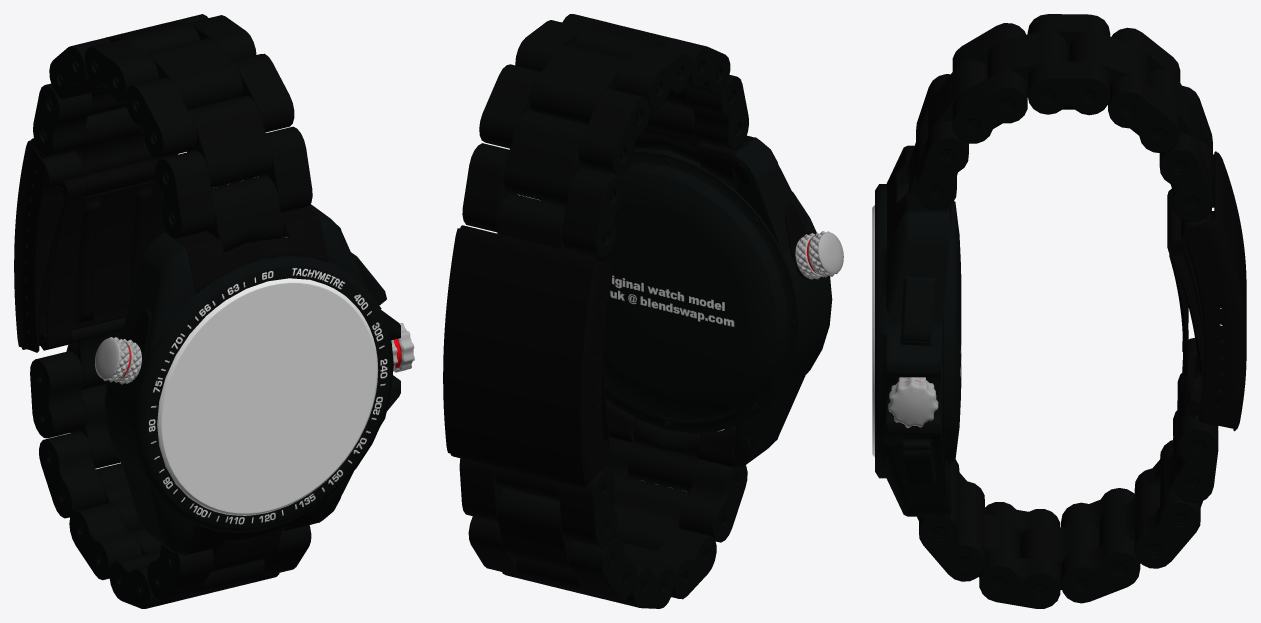
Rendered from chronograph2.glb.
3 renders of one model, left to right at view 1: azimuth 30°, elevation 25°; view 2: azimuth 150°, elevation 25°; view 3: azimuth 270°, elevation 25°, orthographic. The views are drawn at different scales.
Parts seen in each view (by area): view 1: bljashka_zeleska; view 2: bljashka_zeleska; view 3: bljashka_zeleska.
Part boxes in pixels (x1,y1,x2,y2): bljashka_zeleska: (14, 14, 414, 608); bljashka_zeleska: (443, 14, 843, 608); bljashka_zeleska: (872, 14, 1246, 608).
Size of the model in its own units: 11.75 by 19.54 by 12.47.
Materials: 9 (5 with a texture image).
